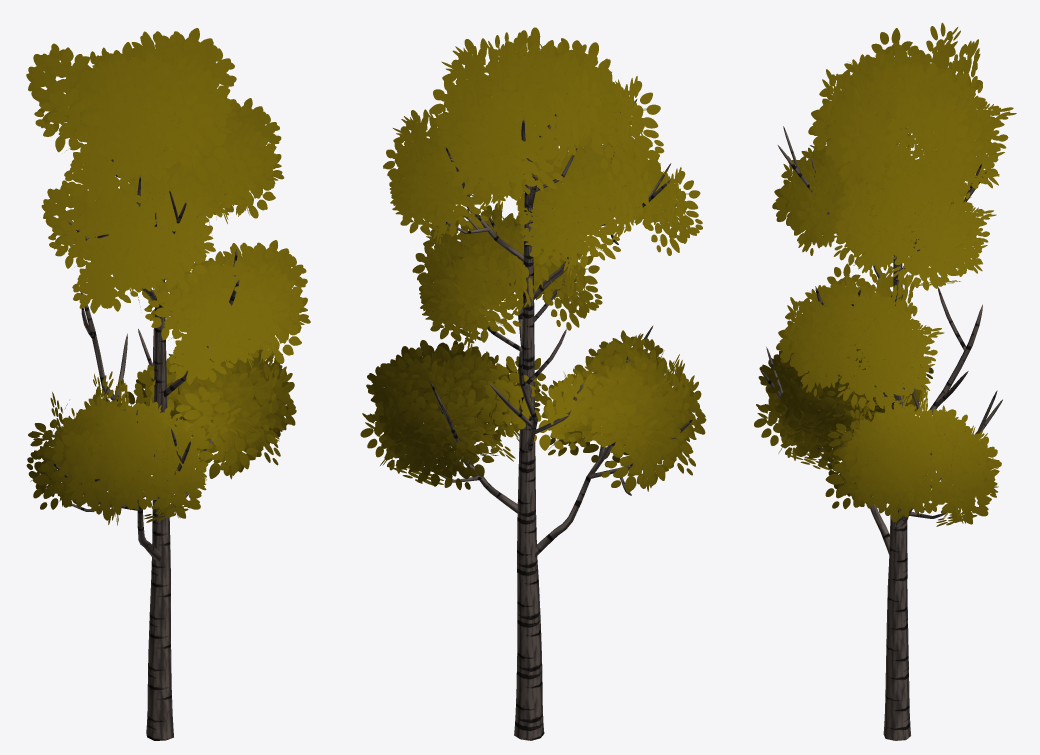
The model's file is birch_tree_2.glb.
The picture shows the model from 3 angles, left to right: view 1: azimuth 30°, elevation 25°; view 2: azimuth 150°, elevation 25°; view 3: azimuth 270°, elevation 25°; orthographic projection. The views are drawn at different scales.
Visible parts, largest first — view 1: BirchTree_22; view 2: BirchTree_22; view 3: BirchTree_22.
Boxes of the visible parts, x1=… form: BirchTree_22: x1=26, y1=28, x2=310, y2=740; BirchTree_22: x1=360, y1=27, x2=706, y2=740; BirchTree_22: x1=754, y1=22, x2=1016, y2=740.
Size of the model in its own units: 3.35 by 7.57 by 2.81.
2 materials, 2 textured.
